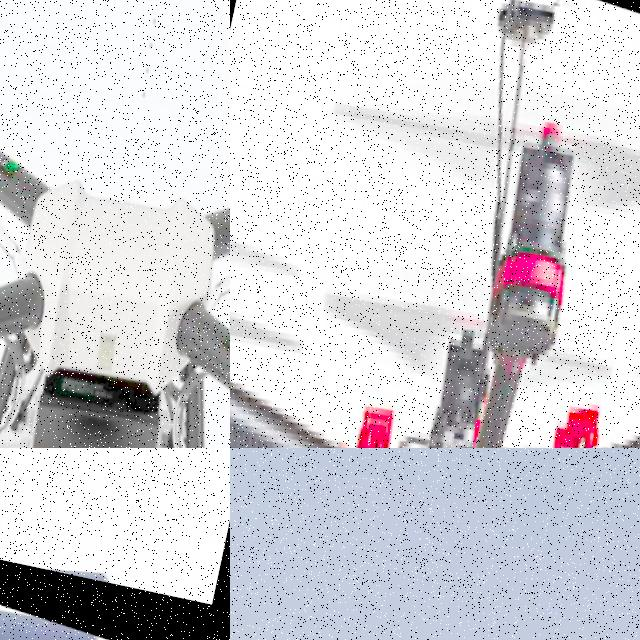drone: (230, 0, 640, 448), (0, 0, 230, 448), (0, 471, 211, 640)
